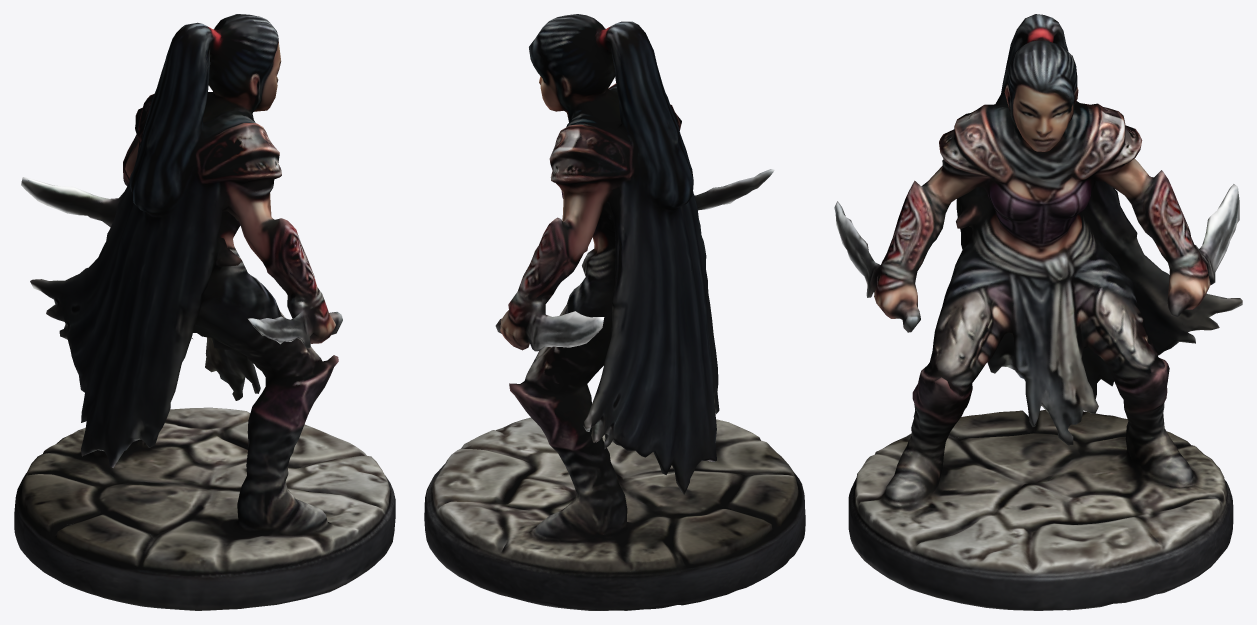
Rendered from kat.glb.
The picture shows the model from 3 angles, left to right: view 1: azimuth 30°, elevation 25°; view 2: azimuth 150°, elevation 25°; view 3: azimuth 270°, elevation 25°; orthographic projection.
Parts seen in each view (by area): view 1: lagrange_node; view 2: lagrange_node; view 3: lagrange_node.
Part boxes in pixels (x1,y1,x2,y2): lagrange_node: [14, 14, 395, 610]; lagrange_node: [424, 14, 805, 610]; lagrange_node: [834, 14, 1242, 610].
Size of the model in its own units: 1.35 by 2 by 1.44.
Materials: 1 (1 with a texture image).
